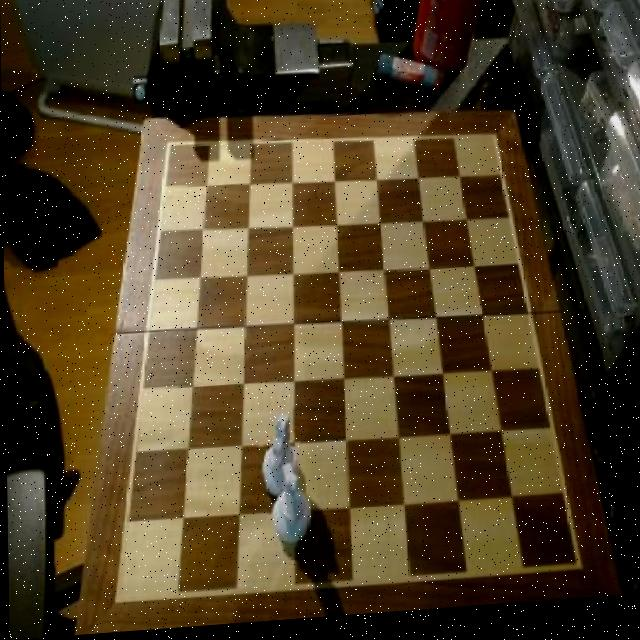white-king: (264, 465, 311, 555), (255, 414, 298, 501)
